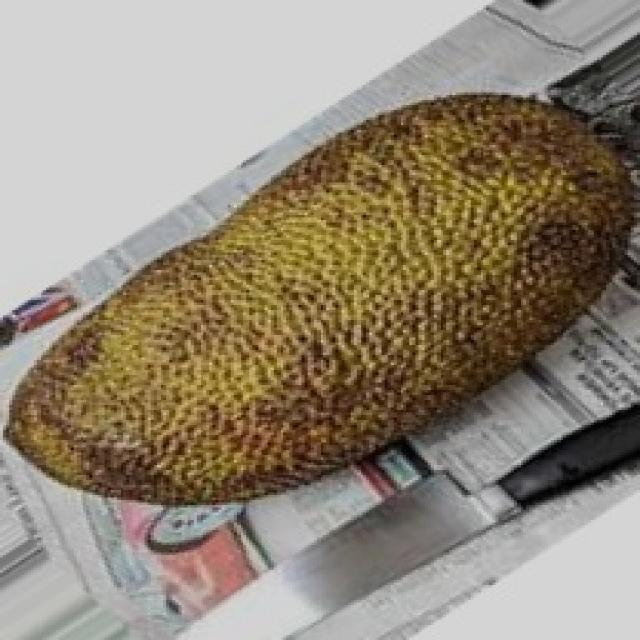Fruit: (209, 63, 637, 405), (0, 190, 418, 537)
